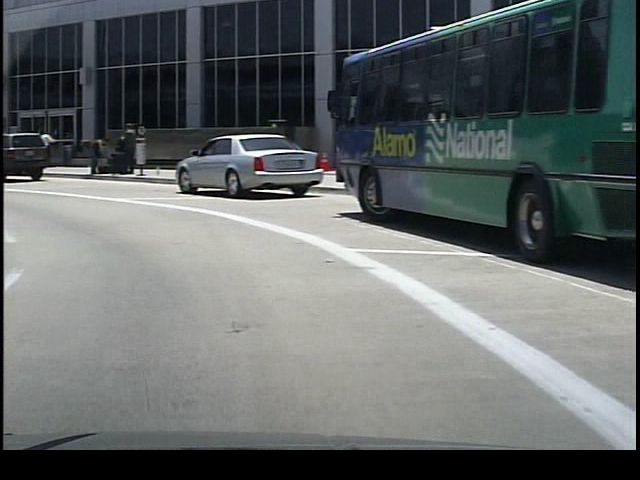person: (76, 125, 105, 179), (113, 121, 135, 175)
